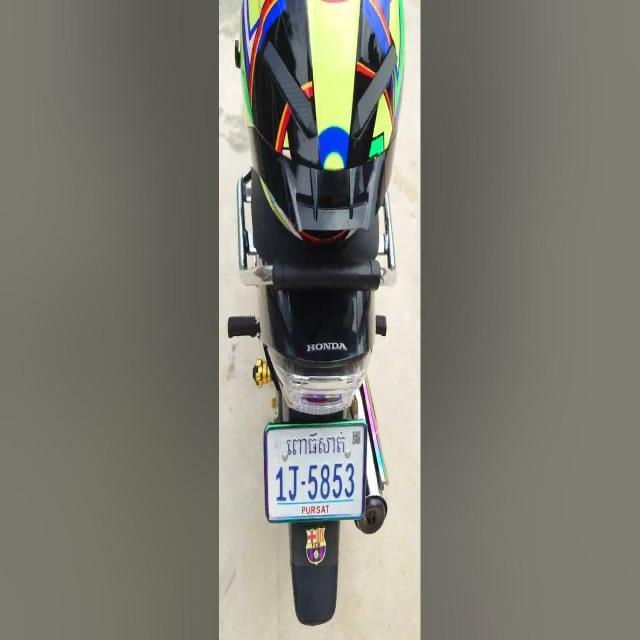Pursat: (286, 429, 346, 464)
